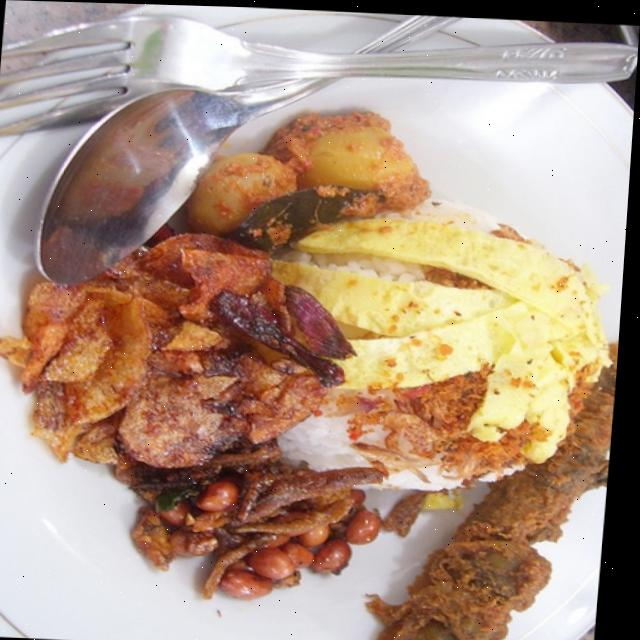米饭主食: (7, 75, 636, 637)
